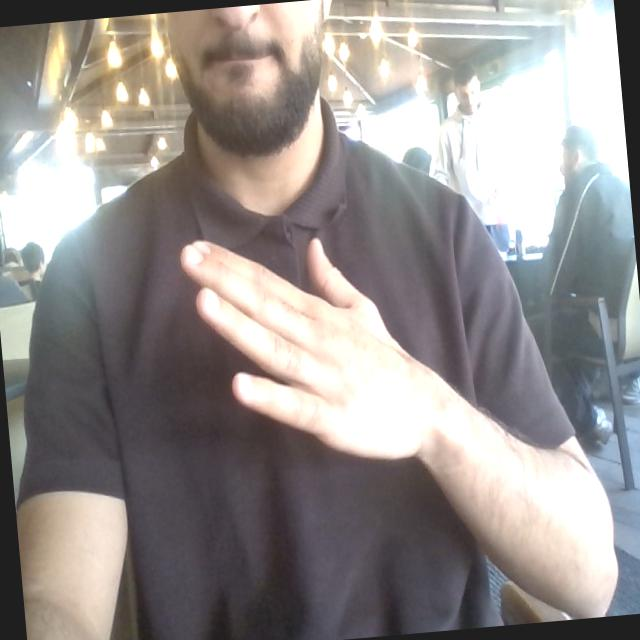Hand: (181, 240, 459, 458)
